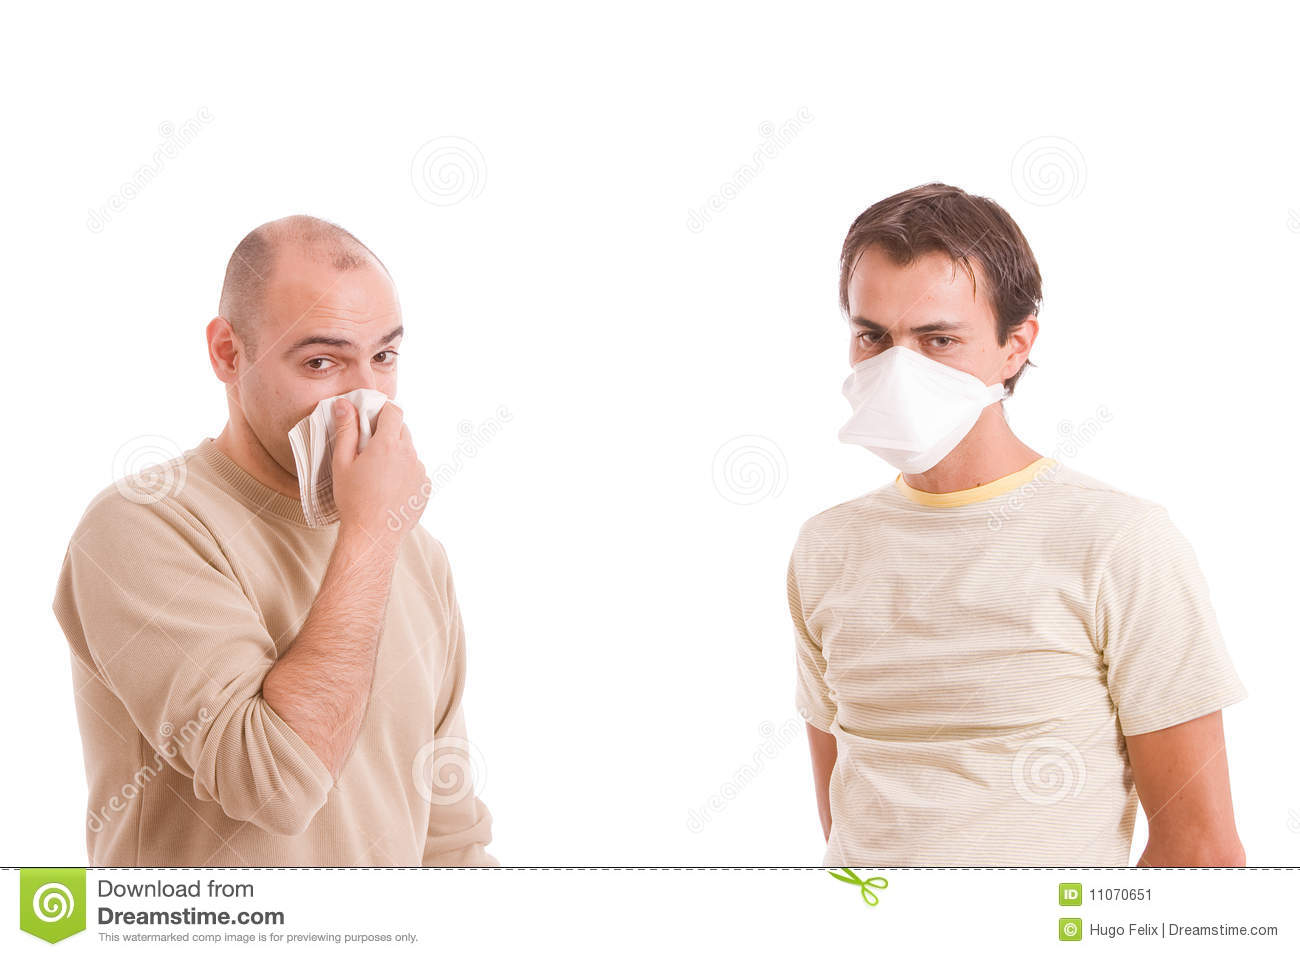mask: (839, 350, 997, 477)
